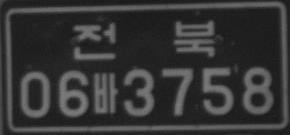0: (19, 70, 51, 118)
3: (123, 67, 155, 117)
5: (201, 66, 234, 115)
6: (57, 68, 90, 117)
7: (161, 66, 193, 115)
8: (241, 65, 274, 115)
바: (92, 72, 118, 113)
전북_D: (71, 19, 216, 60)
